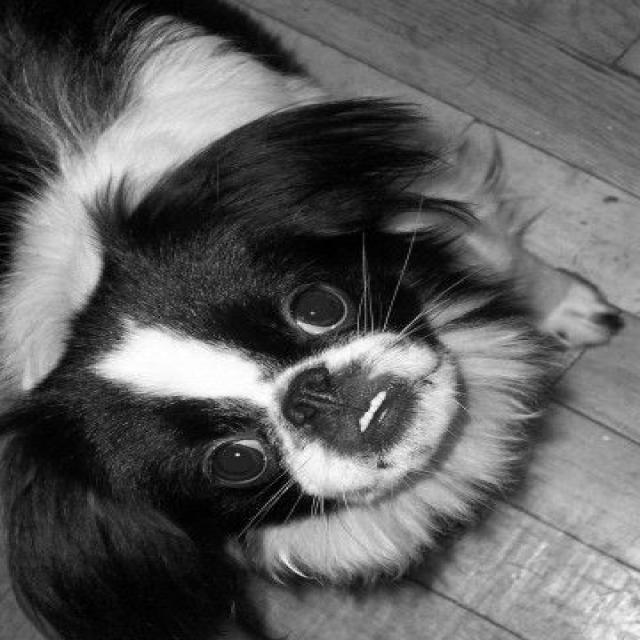dog-japanese_chin: (2, 1, 620, 637)
